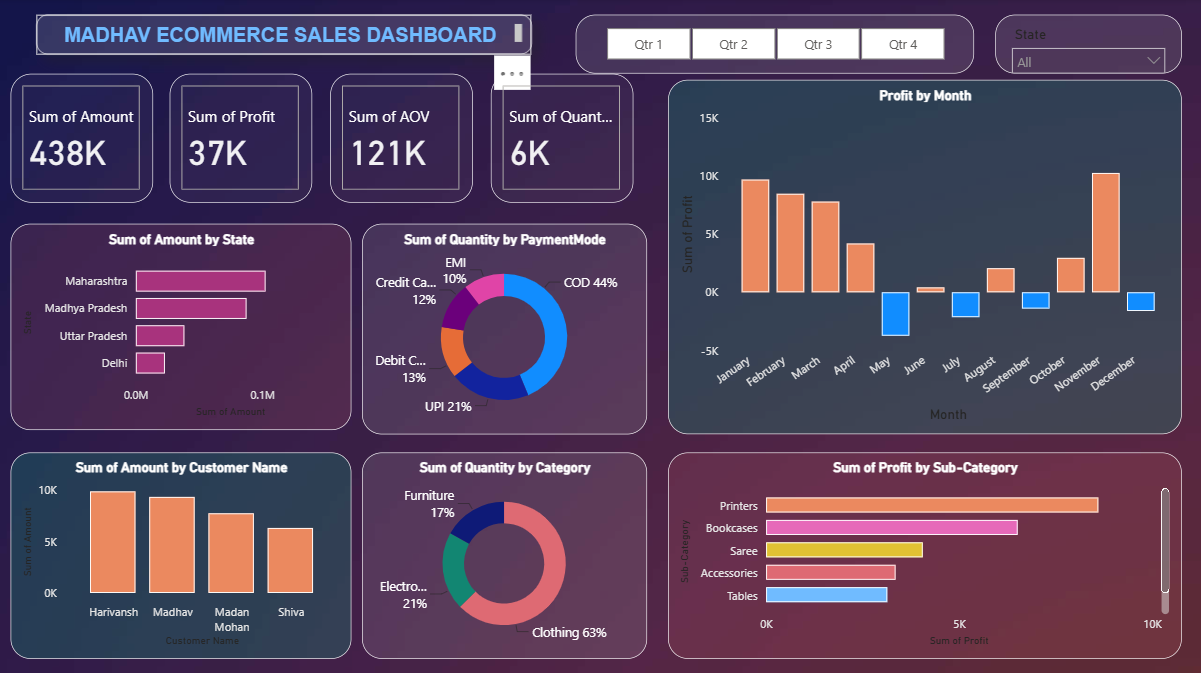

The page's visual inventory and layout, read from the dashboard file:
{"tool":"powerbi","page":{"name":"Page 1","canvas":[1280,720],"ordinal":0},"visuals":[{"type":"textbox","box":[38.7,17.8,527.8,42],"z":0},{"type":"columnChart","title":"Profit by Month","fields":{"Category":["Orders.Order Date.Variation.Date Hierarchy.Month"],"Y":["Sum(Details.Profit)"]},"box":[711.8,87.2,547.2,377.7],"z":1000},{"type":"barChart","fields":{"Category":["Details.Sub-Category"],"Y":["Sum(Details.Profit)"]},"box":[711.8,484.2,547.2,219.5],"z":2000},{"type":"donutChart","fields":{"Category":["Details.Category"],"Y":["Sum(Details.Quantity)"]},"box":[385.8,484.2,303.4,219.5],"z":3000},{"type":"donutChart","fields":{"Category":["Details.PaymentMode"],"Y":["Sum(Details.Quantity)"]},"box":[385.8,240.5,303.4,224.4],"z":4000},{"type":"cardVisual","fields":{"Data":["Sum(Details.Quantity)"]},"box":[523,80.7,151.7,137.2],"z":5000},{"type":"cardVisual","fields":{"Data":["Sum(Details.AOV)"]},"box":[351.9,80.7,151.7,137.2],"z":6000},{"type":"cardVisual","fields":{"Data":["Sum(Details.Profit)"]},"box":[180.8,80.7,151.7,137.2],"z":7000},{"type":"cardVisual","fields":{"Data":["Sum(Details.Amount)"]},"box":[11.3,80.7,151.7,137.2],"z":8000},{"type":"barChart","fields":{"Category":["Orders.State"],"Y":["Sum(Details.Amount)"]},"box":[11.3,240.5,363.2,219.5],"z":9000},{"type":"columnChart","fields":{"Category":["Orders.Customer Name"],"Y":["Sum(Details.Amount)"]},"box":[11,484,363,220],"z":10000},{"type":"slicer","fields":{"Values":["Orders.Order Date.Variation.Date Hierarchy.Quarter"]},"box":[613.3,17.8,424.5,62.9],"z":11000},{"type":"slicer","fields":{"Values":["Orders.State"]},"box":[1060.4,17.8,198.5,62.9],"z":12000}]}

Visuals, with their boxes in screenshot pixels (x1, y1, x2, y2), scaled from the page's 1280x720 canvas onto the 1201x673 screenshot:
textbox: 36 17 532 56
"Profit by Month" columnChart: 668 82 1181 435
barChart - Details.Sub-Category x Sum(Details.Profit): 668 453 1181 658
donutChart - Details.Category x Sum(Details.Quantity): 362 453 647 658
donutChart - Details.PaymentMode x Sum(Details.Quantity): 362 225 647 435
cardVisual - Sum(Details.Quantity): 491 75 633 204
cardVisual - Sum(Details.AOV): 330 75 473 204
cardVisual - Sum(Details.Profit): 170 75 312 204
cardVisual - Sum(Details.Amount): 11 75 153 204
barChart - Orders.State x Sum(Details.Amount): 11 225 351 430
columnChart - Orders.Customer Name x Sum(Details.Amount): 10 452 351 658
slicer - Orders.Order Date.Variation.Date Hierarchy.Quarter: 575 17 974 75
slicer - Orders.State: 995 17 1181 75
